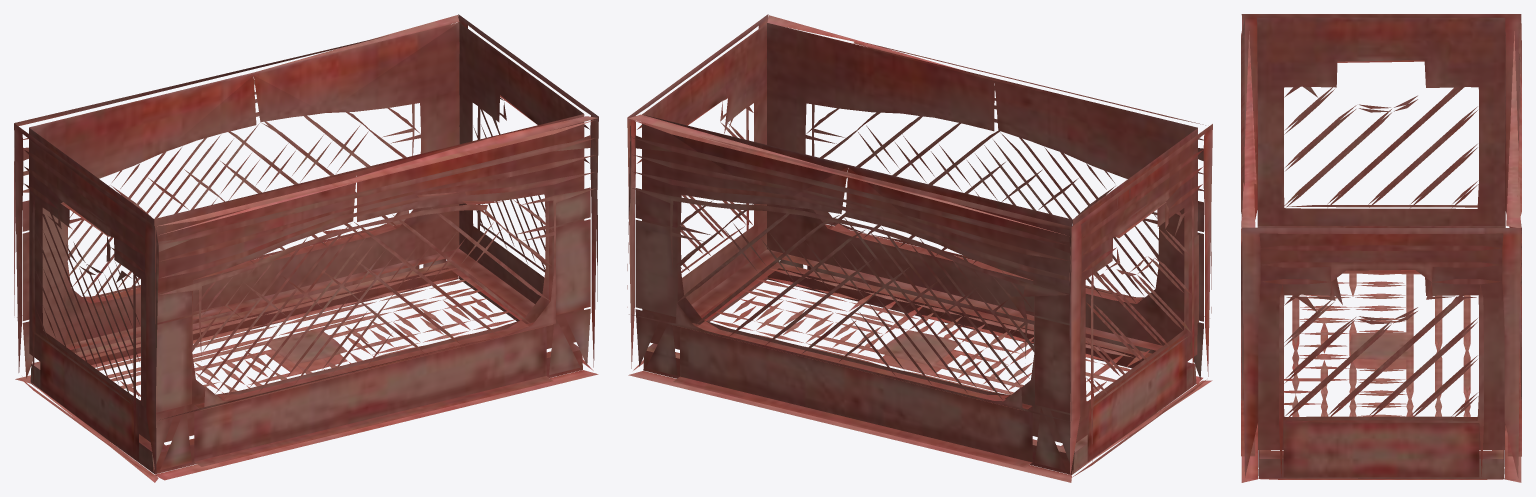
File: plastic_crate_03.gltf
The picture shows the model from 3 angles, left to right: view 1: azimuth 30°, elevation 25°; view 2: azimuth 150°, elevation 25°; view 3: azimuth 270°, elevation 25°; orthographic projection.
Visible parts, largest first — view 1: plastic_crate_03; view 2: plastic_crate_03; view 3: plastic_crate_03.
Boxes of the visible parts, left/top/right/bottom form: plastic_crate_03: left=14, top=14, right=598, bottom=482; plastic_crate_03: left=627, top=14, right=1212, bottom=482; plastic_crate_03: left=1241, top=14, right=1521, bottom=482.
Bounding box in the file's own units: 0.4811 × 0.2663 × 0.265.
Materials: 1 (1 with a texture image).
